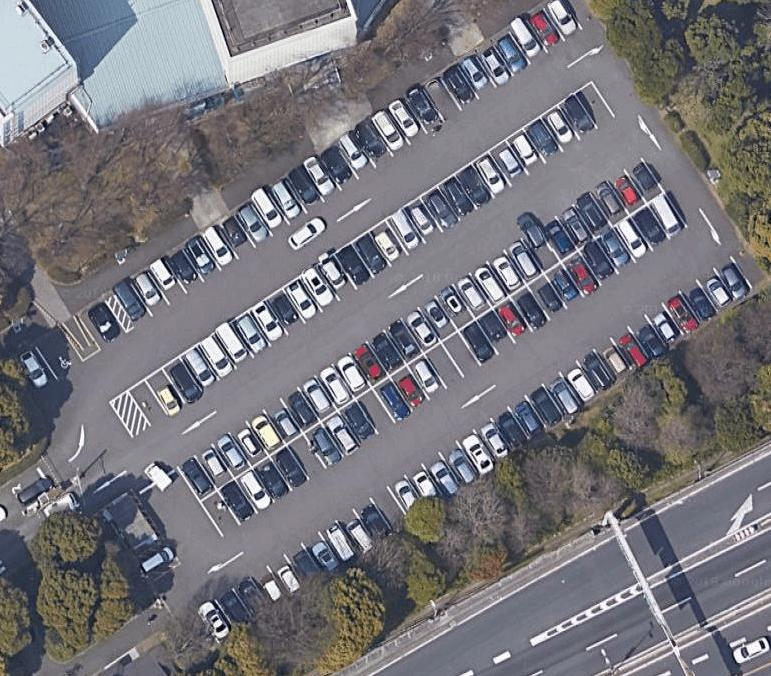parkingspot: (194, 253, 754, 647), (125, 80, 619, 430), (175, 154, 666, 504), (198, 191, 689, 540), (111, 1, 602, 333), (14, 324, 87, 400), (75, 295, 130, 355), (138, 542, 179, 577)
